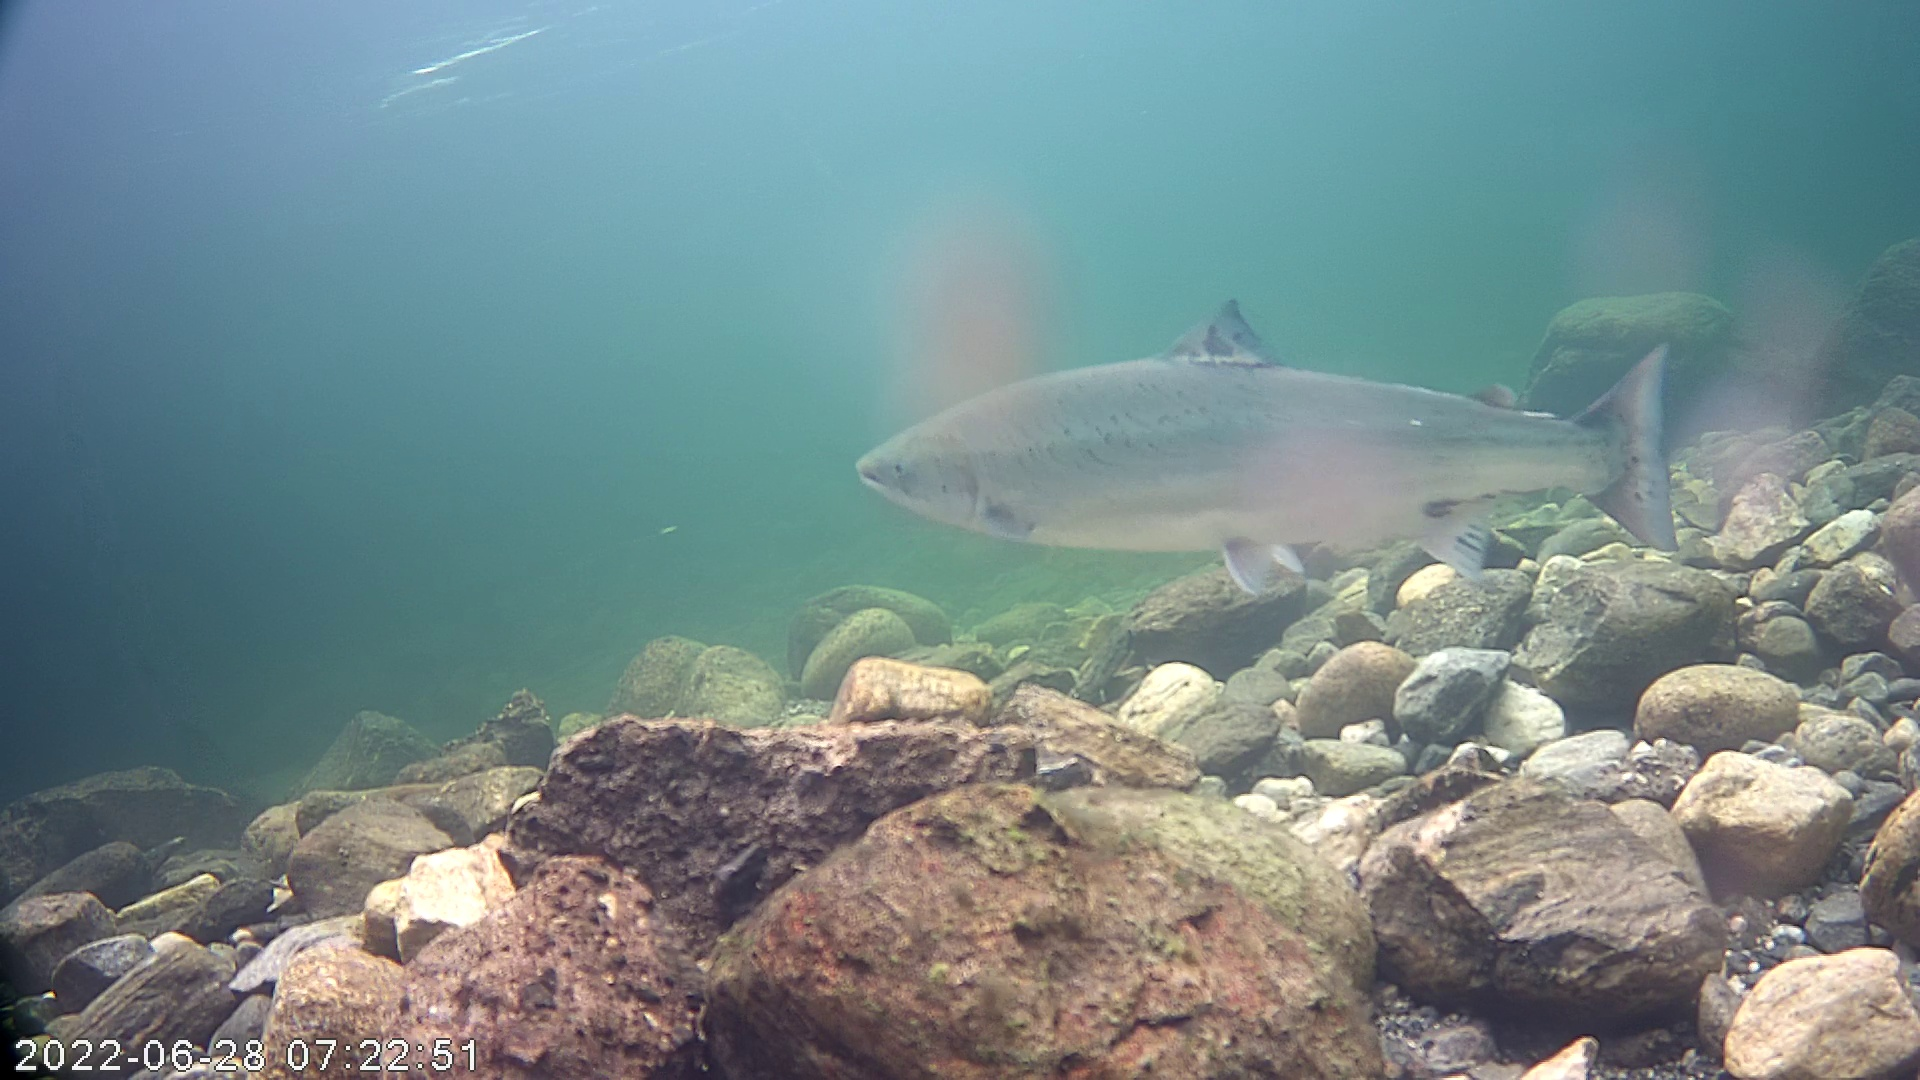salmon: (847, 228, 1710, 647)
